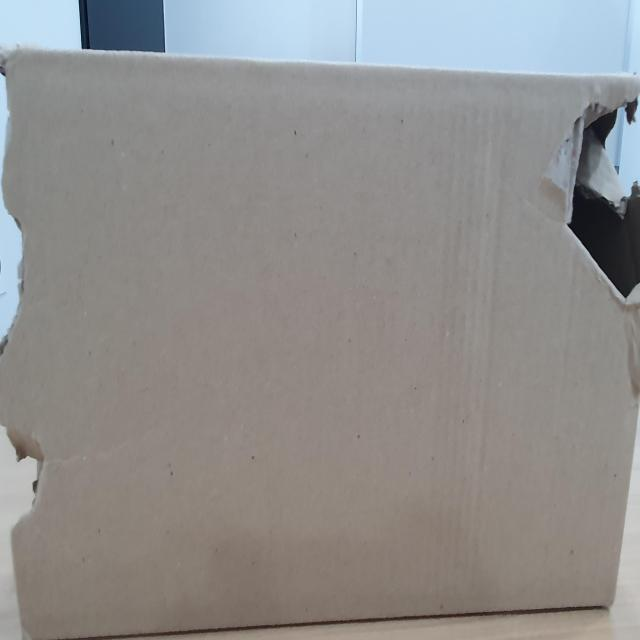damaged: (555, 74, 640, 306)
